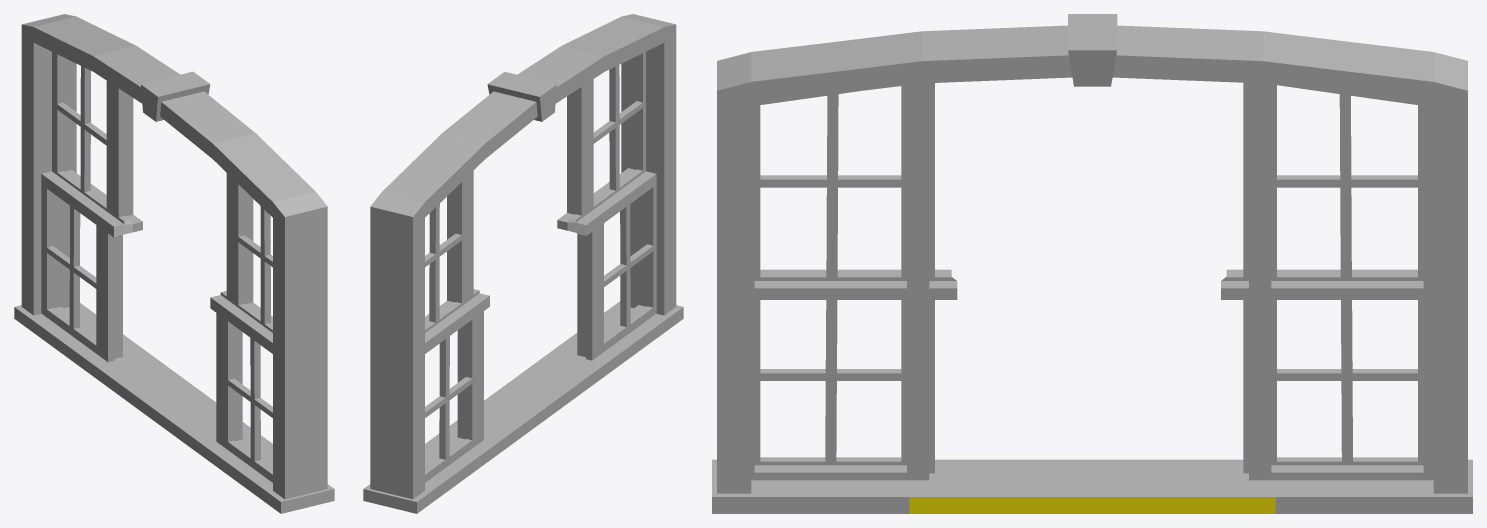
The model's file is lv3windowhighlightfix.fbx.
3 views of the same model, side by side, from view 1: azimuth 30°, elevation 25°; view 2: azimuth 150°, elevation 25°; view 3: azimuth 270°, elevation 25° (orthographic). The views are drawn at different scales.
Visible parts, largest first — view 1: polySurface5385; view 2: polySurface5385; view 3: polySurface5385.
Part boxes in pixels (left/top/right/bottom): polySurface5385: left=14, top=14, right=334, bottom=513; polySurface5385: left=363, top=14, right=683, bottom=513; polySurface5385: left=712, top=14, right=1472, bottom=513.
Bounding box in the file's own units: 48.19 × 276 × 411.
